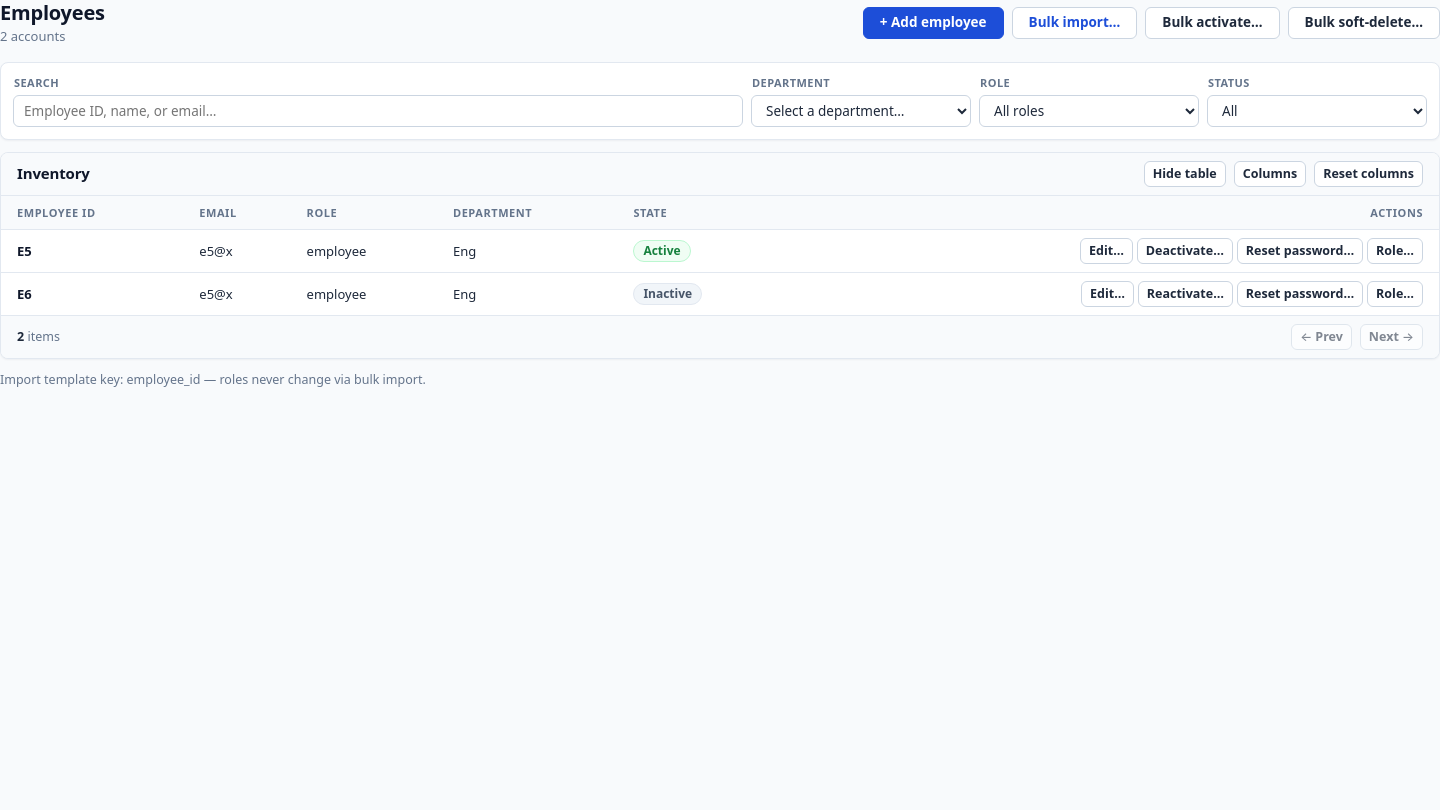
Users row actions › surfaces reset password errors
The image size is (1440, 810).
Expected: the link "E5" is shown, x1=17 y1=242 x2=32 y2=260
Click the 1st button "Reset password…".
click(1300, 251)  # box x1=1237 y1=238 x2=1363 y2=264
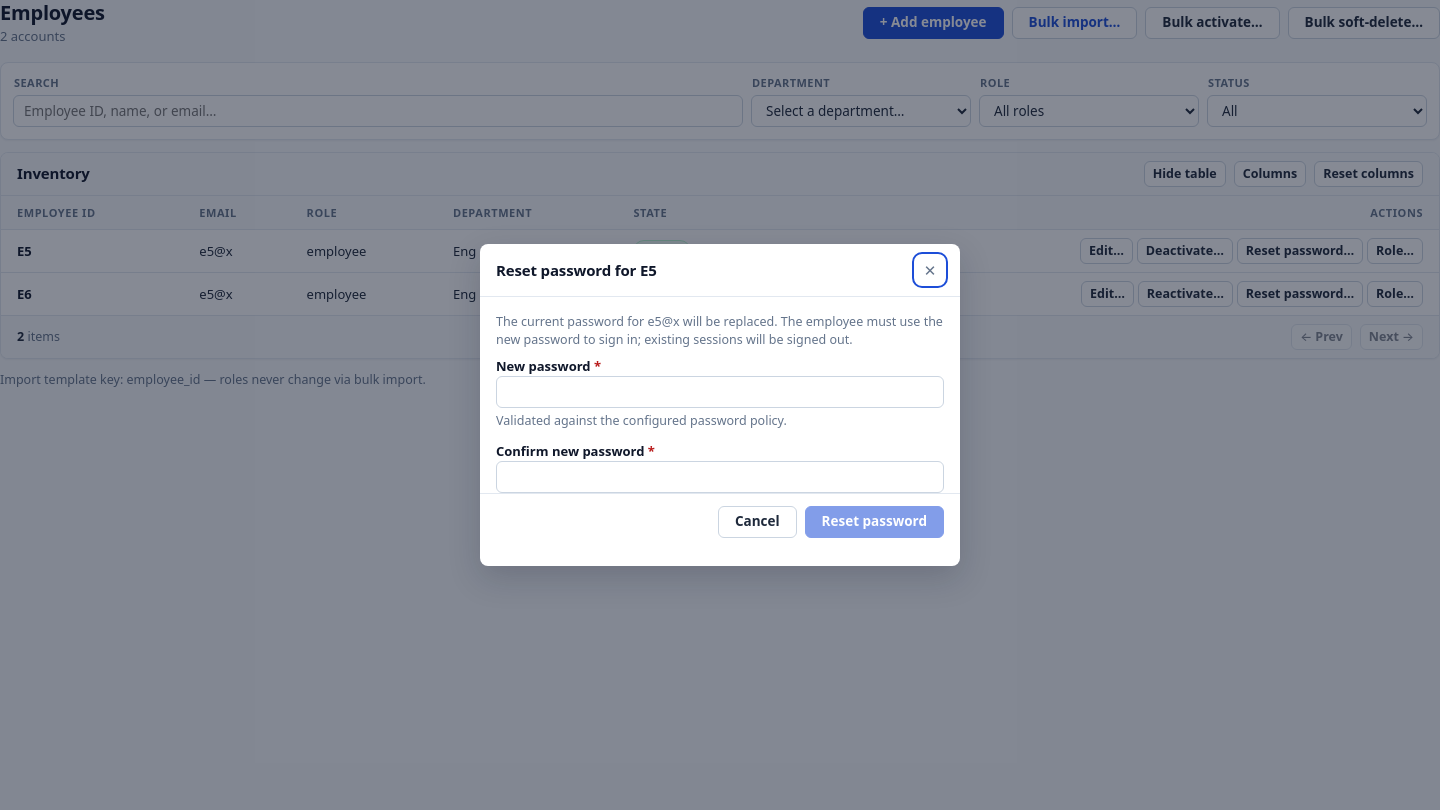
Type "brand-new-pass-99" into the password field named "New password for E5".
click(720, 392); type("brand-new-pass-99")  # box x1=496 y1=376 x2=944 y2=408
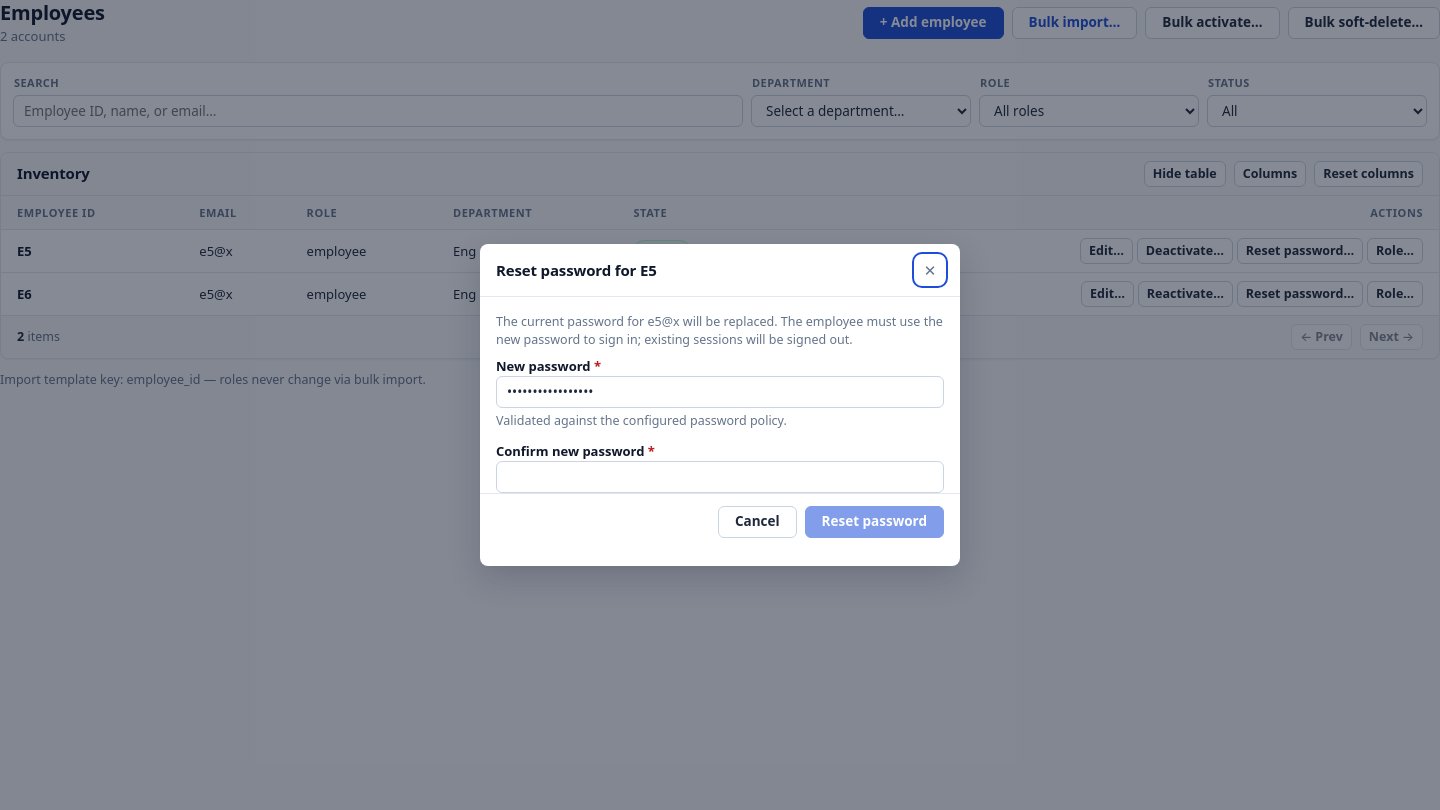
Type "brand-new-pass-99" into the password field named "Confirm new password for E5".
click(720, 477); type("brand-new-pass-99")  # box x1=496 y1=461 x2=944 y2=493
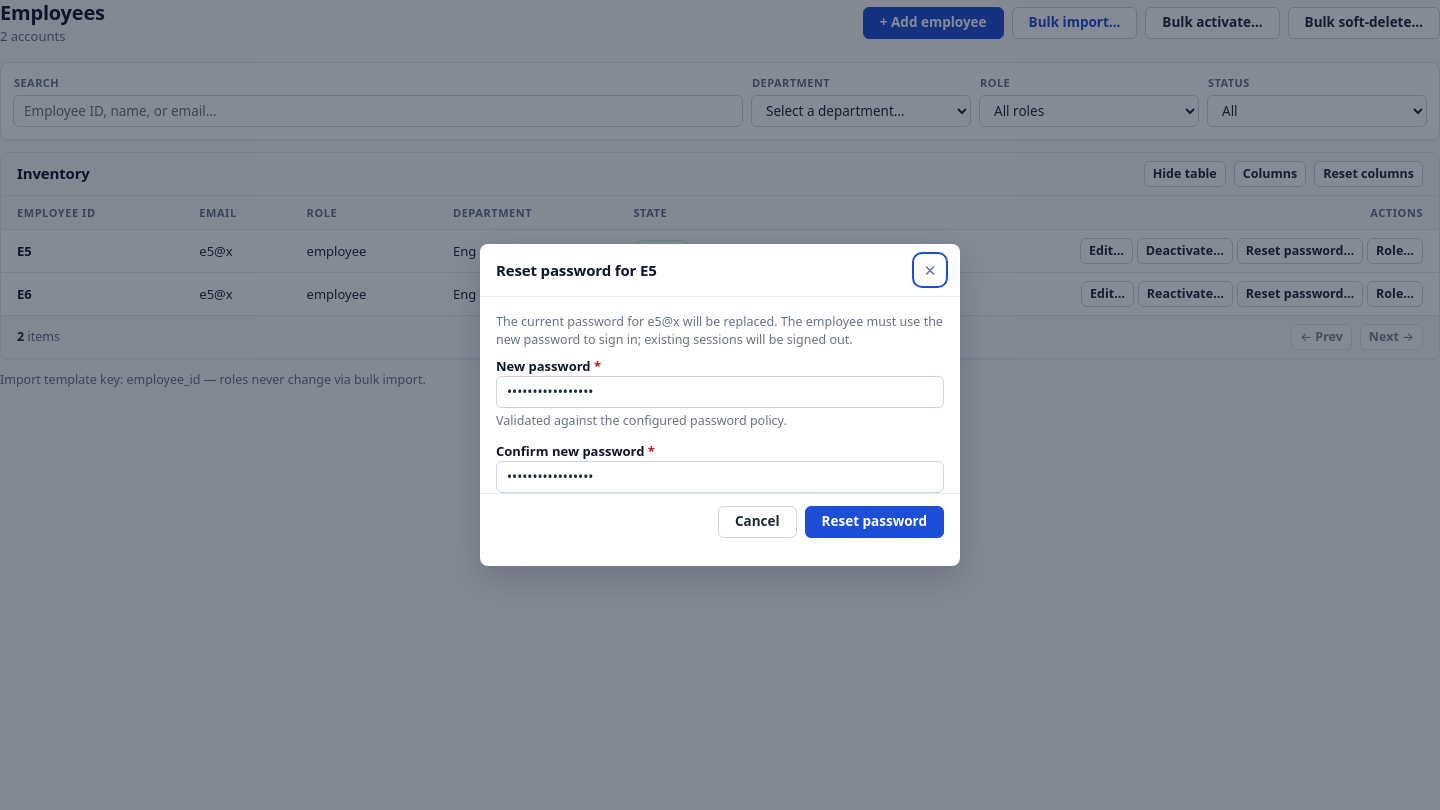
Click the button "Reset password".
click(874, 522)  # box x1=805 y1=506 x2=944 y2=538
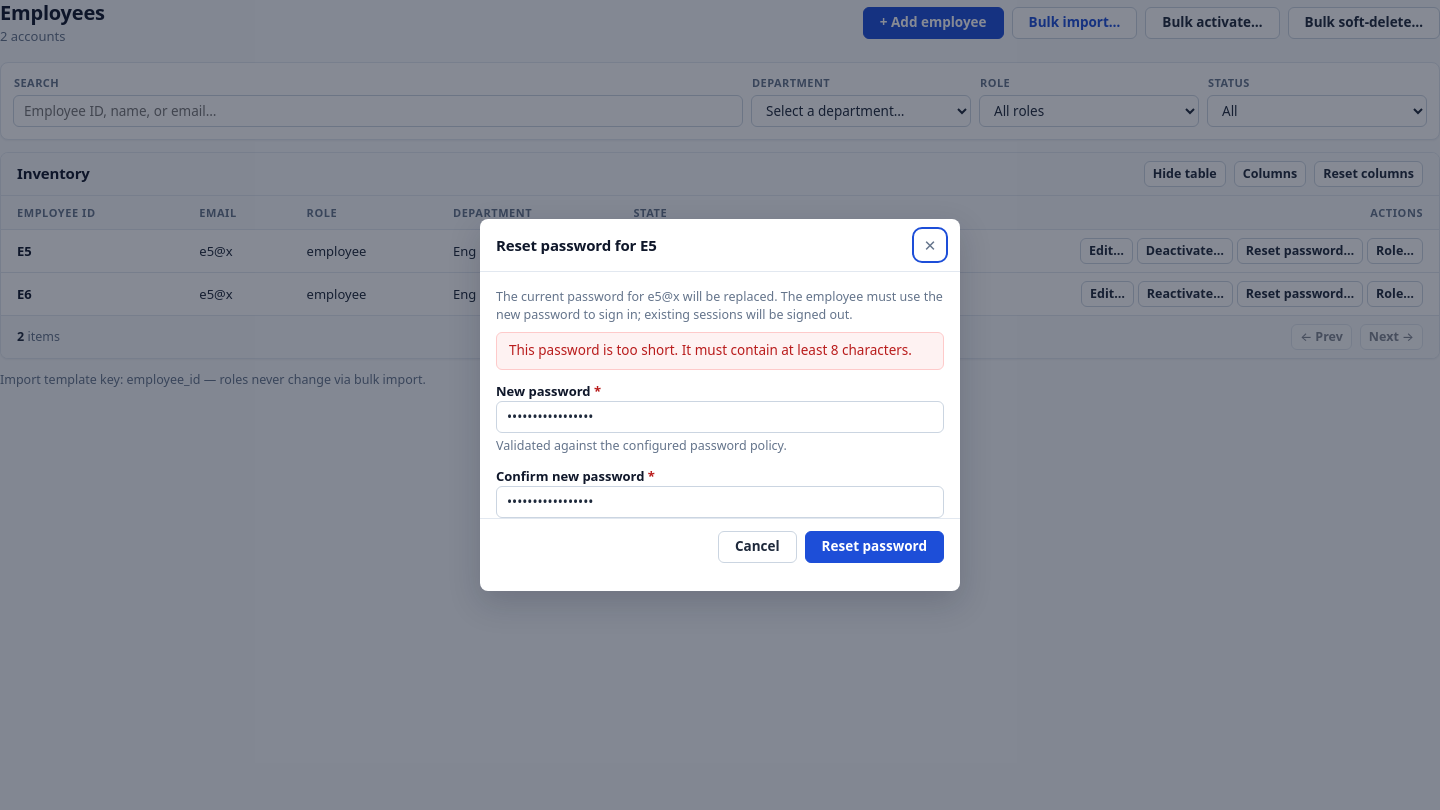
Result: the text "This password is too short. It must contain at least 8 characters." is shown at x1=496 y1=332 x2=944 y2=370
